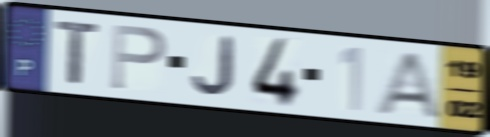1: (339, 45, 365, 113)
4: (250, 35, 301, 110)
A: (372, 50, 446, 122)
J: (190, 34, 236, 98)
P: (109, 22, 169, 93)
T: (53, 19, 103, 88)
